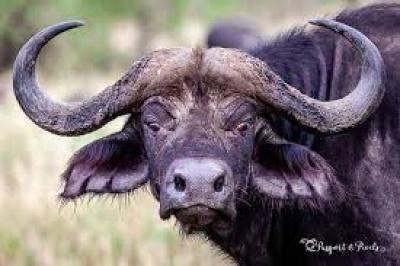buffalo: (12, 19, 400, 266)
